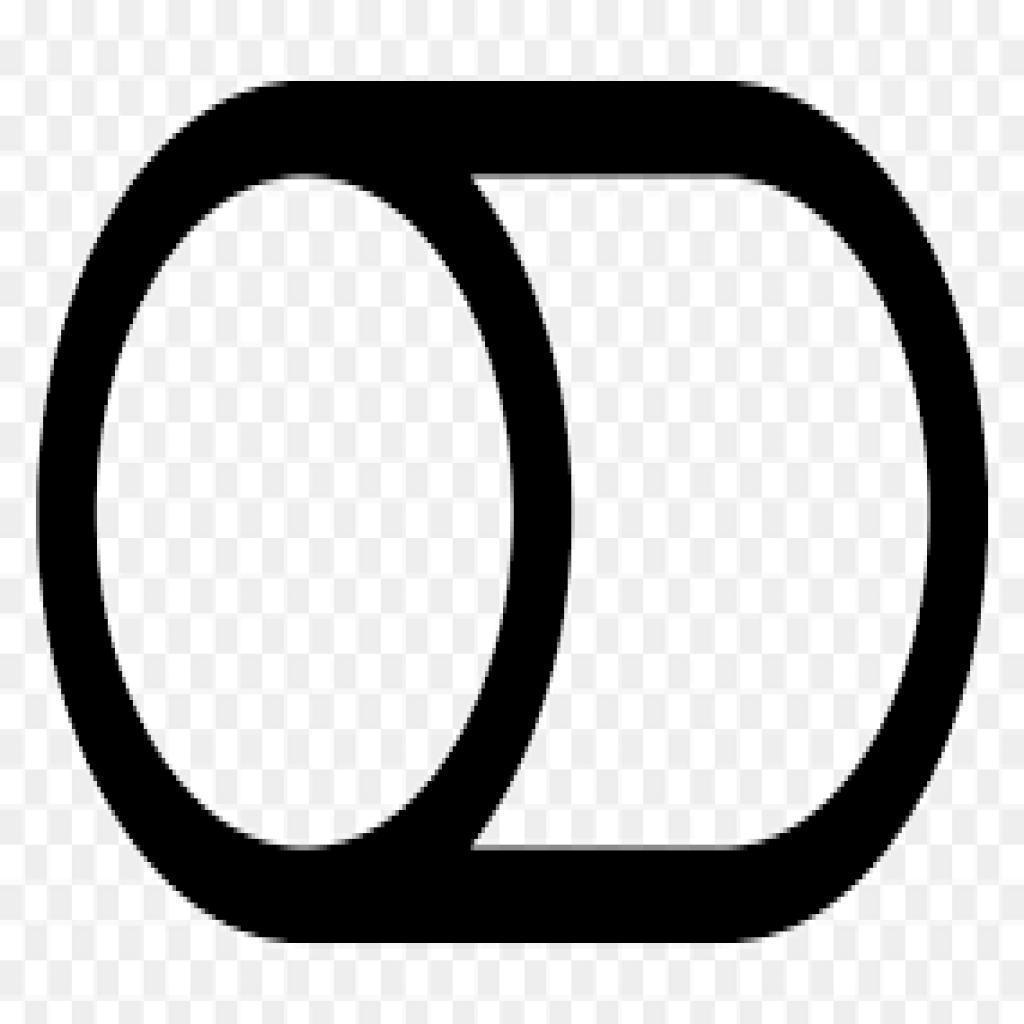switch: (36, 80, 988, 946)
